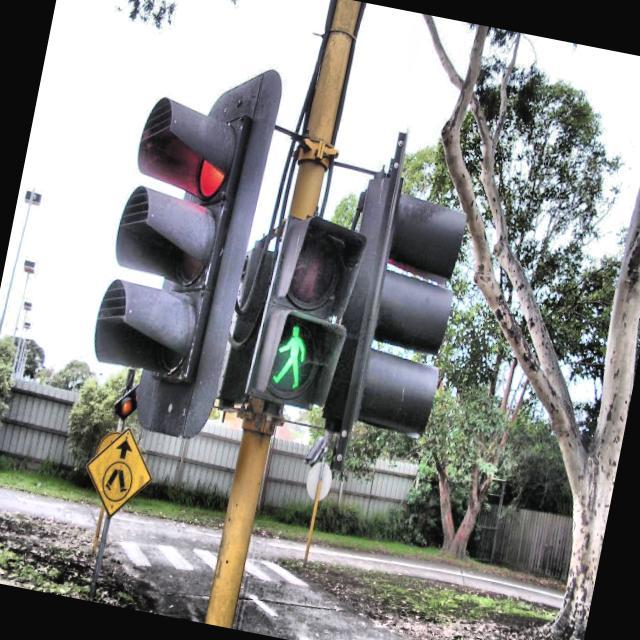green_light: (270, 321, 312, 391)
